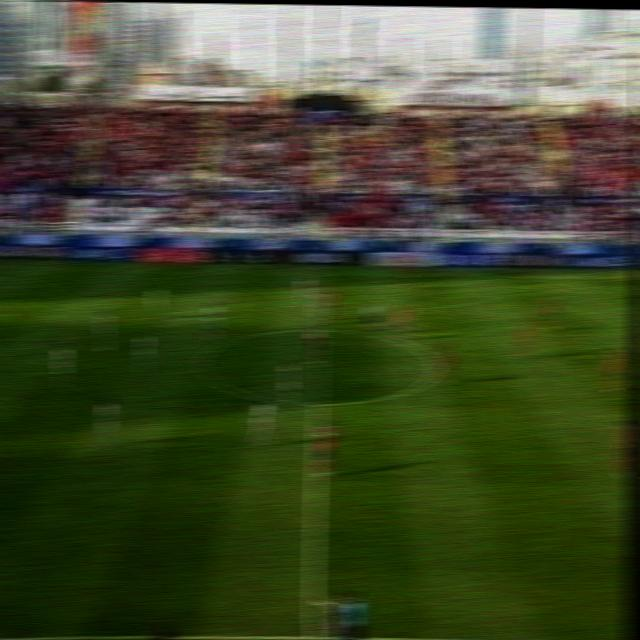halfcircle_bottom: (305, 389, 331, 415)
halfcircle_top: (306, 320, 332, 339)
midline_bottom_intersection: (297, 623, 329, 640)
midline_top_intersection: (312, 264, 332, 276)
